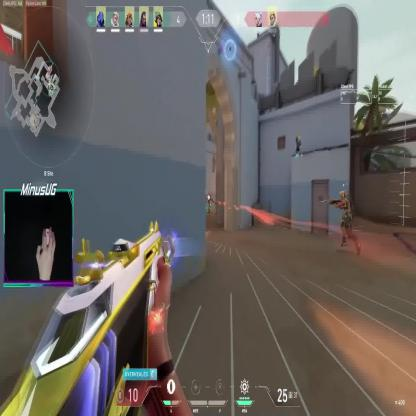enemy: (207, 196, 210, 212)
enemy_head: (208, 194, 209, 200)
